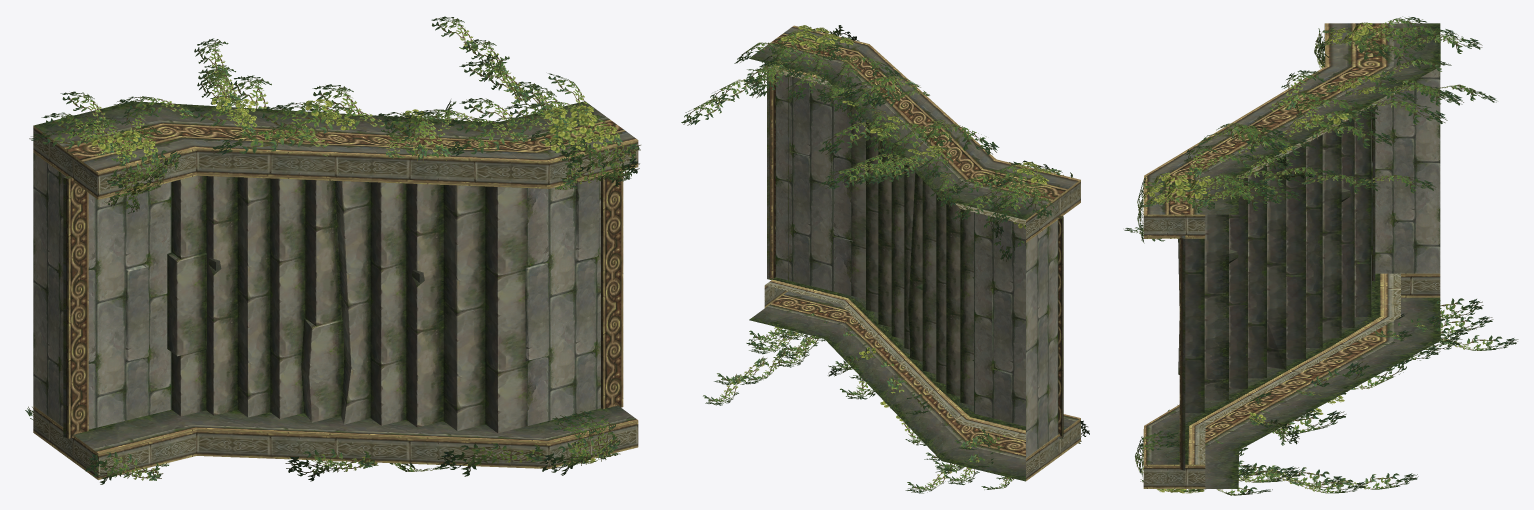
Rendered from zhucheng_yewai_291_louti01c.obj.
The picture shows the model from 3 angles, left to right: view 1: azimuth 30°, elevation 25°; view 2: azimuth 150°, elevation 25°; view 3: azimuth 270°, elevation 25°; orthographic projection. The views are drawn at different scales.
Visible parts, largest first — view 1: zhucheng_yewai_291_louti01c, zhucheng_yewai_291_zhiwu_01; view 2: zhucheng_yewai_291_louti01c, zhucheng_yewai_291_zhiwu_01; view 3: zhucheng_yewai_291_louti01c, zhucheng_yewai_291_zhiwu_01.
Part boxes in pixels (left/top/right/bottom): zhucheng_yewai_291_louti01c: left=33, top=101, right=638, bottom=479; zhucheng_yewai_291_zhiwu_01: left=25, top=16, right=640, bottom=484; zhucheng_yewai_291_louti01c: left=749, top=25, right=1080, bottom=481; zhucheng_yewai_291_zhiwu_01: left=681, top=25, right=1089, bottom=493; zhucheng_yewai_291_louti01c: left=1143, top=23, right=1440, bottom=488; zhucheng_yewai_291_zhiwu_01: left=1124, top=16, right=1518, bottom=495.
Size of the model in its own units: 750 by 547 by 609.
5 materials, 5 textured.
